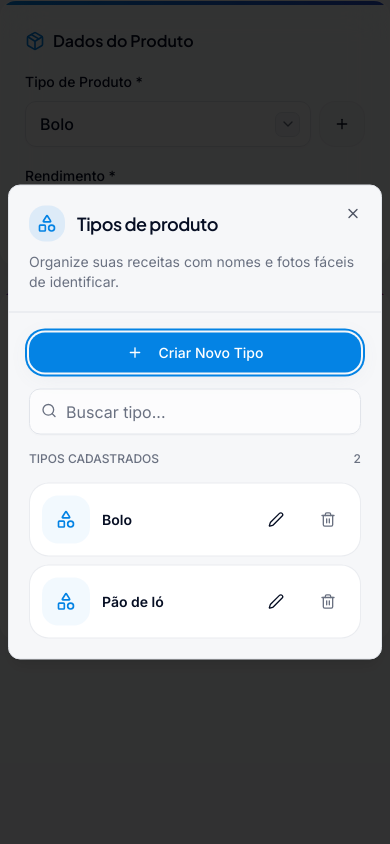
Test: product type loading and shared catalog › updates the selected label and shared list immediately after rename and create
Earlier steps of the test are not shown.
Click the button named "Editar Bolo": {"x": 276, "y": 520} [256, 500, 296, 540]
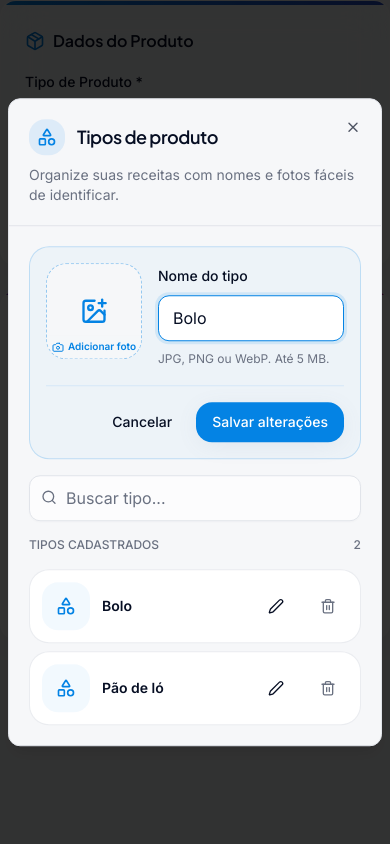
Replace the text in the field labelled "Nome do tipo" with "Bolo caseiro": {"x": 251, "y": 318} [158, 295, 344, 341]
Click the button with aria-label "Salvar tipo de produto": {"x": 270, "y": 422} [196, 402, 344, 442]
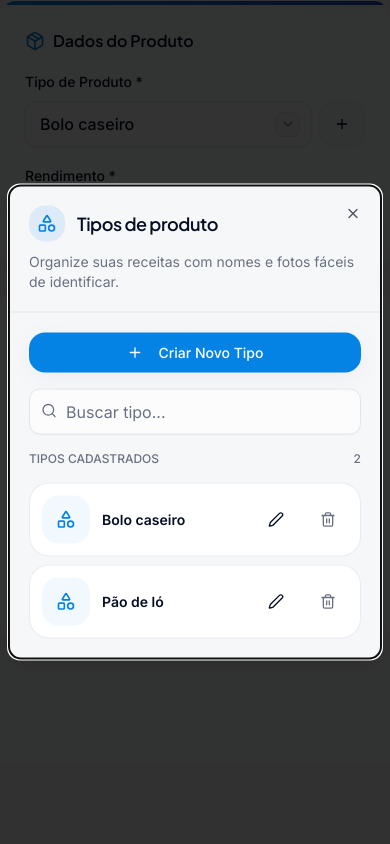
expect the text "Bolo caseiro" is shown: met, box [102, 510, 185, 528]
expect the dropdown named "Tipo de Produto *" reads "Bolo caseiro": met, box [25, 101, 311, 147]
Click the button "Criar Novo Tipo": {"x": 195, "y": 352} [29, 332, 361, 372]
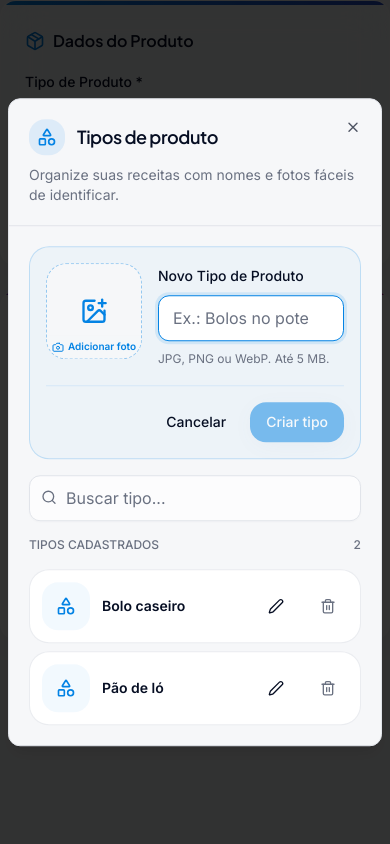
In the field labelled "Novo Tipo de Produto": {"x": 251, "y": 318} [158, 295, 344, 341], type "Torta"
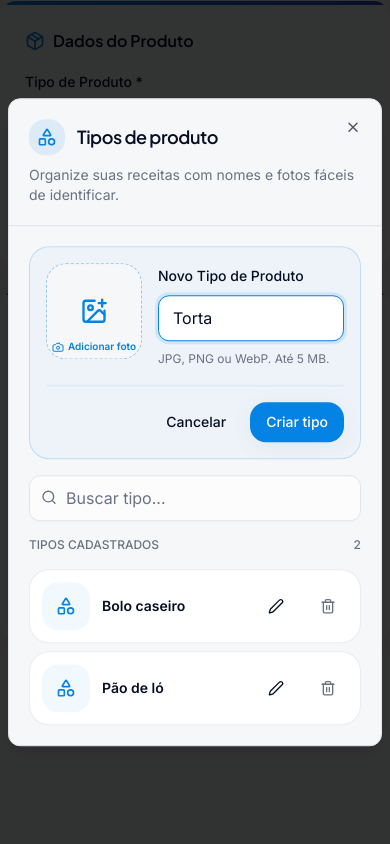
Click the button with aria-label "Criar tipo de produto": {"x": 297, "y": 422} [250, 402, 344, 442]
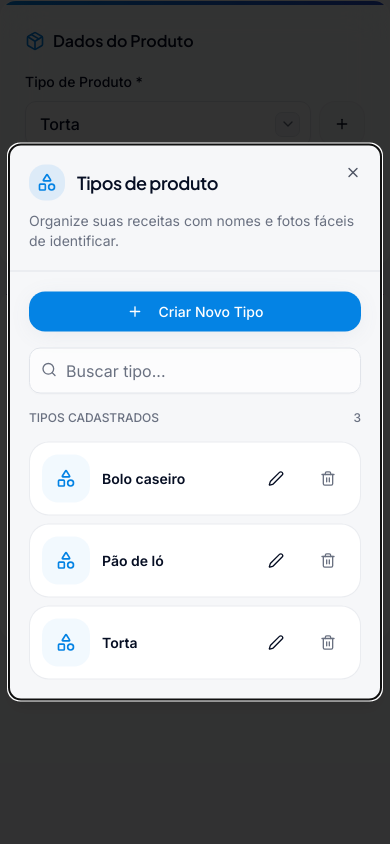
expect the dropdown named "Tipo de Produto *" reads "Torta": met, box [25, 101, 311, 147]
Press Escape in the dialog
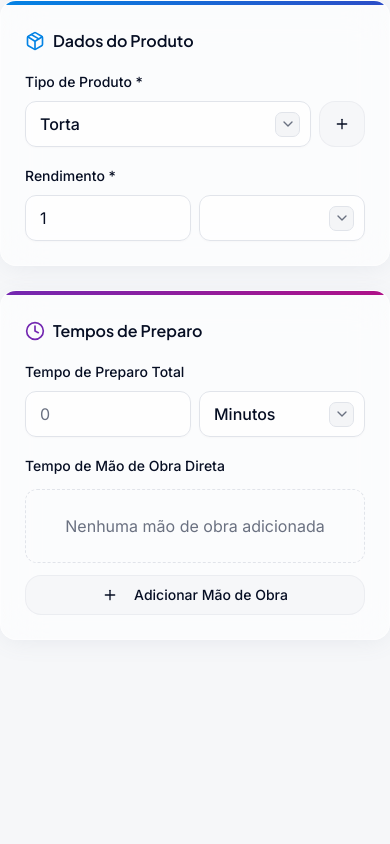
expect the dropdown named "Tipo de Produto *" reads "Torta": met, box [25, 101, 311, 147]
expect the dialog is gone: met
